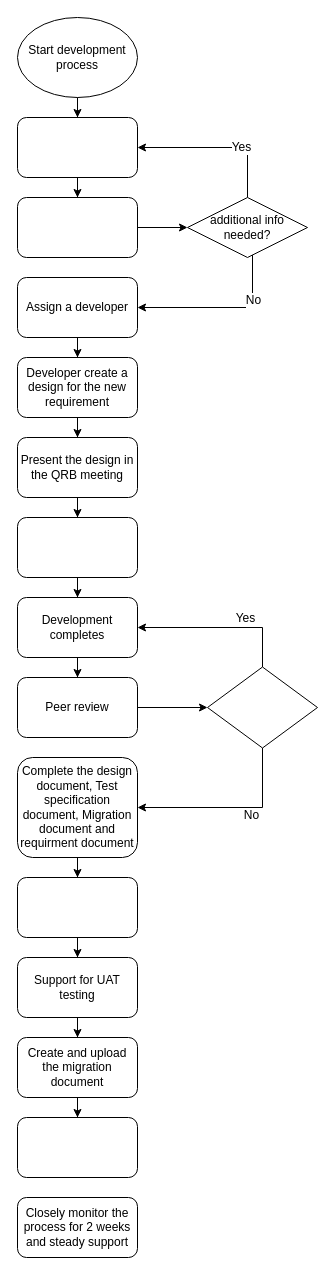
This 335x1275 diagram has some shape labels left out. Here are the shapes that lost their labels. From the top down, the centre of each, then its label:
At point 77,147: "Send the requirement template to fill".
At point 77,227: "Validate the information.".
At point 77,547: "Incorporate the comments from QRB meeting".
At point 262,707: "If comments?".
At point 77,907: "Migrate the code upon approval in CR".
At point 77,1147: "Migrate to Prod".
